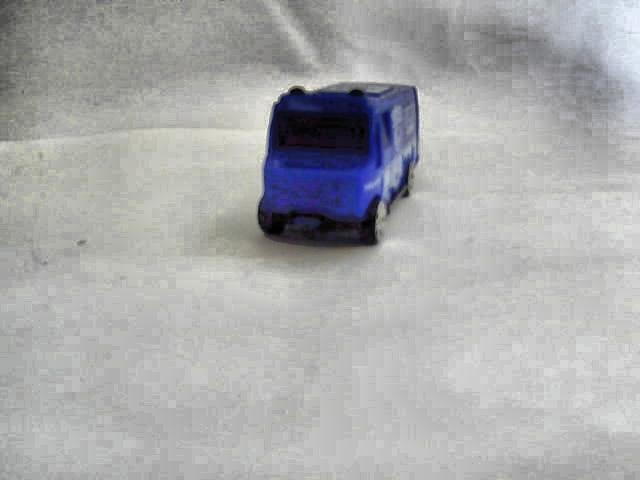police car: (249, 86, 424, 243)
